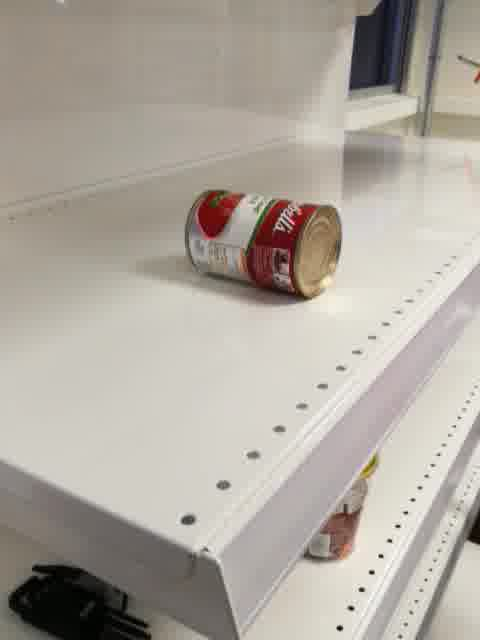tomatosoup: (183, 187, 345, 301)
